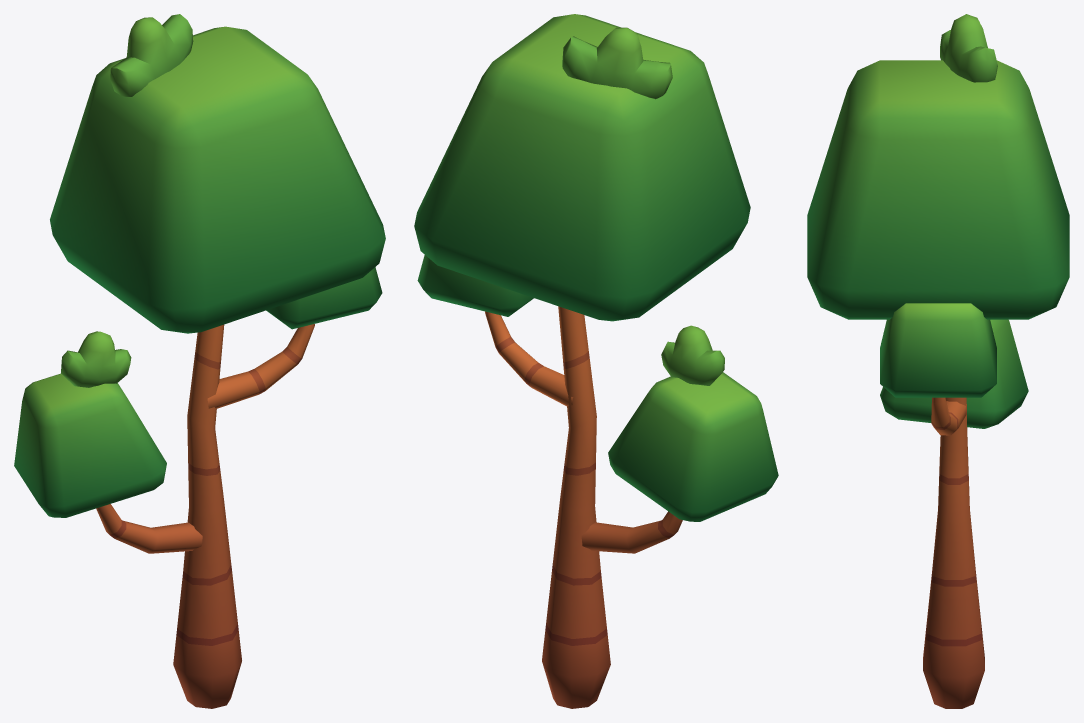
Rendered from large_tree_green.glb.
The picture shows the model from 3 angles, left to right: view 1: azimuth 30°, elevation 25°; view 2: azimuth 150°, elevation 25°; view 3: azimuth 270°, elevation 25°; orthographic projection. The views are drawn at different scales.
Visible parts, largest first — view 1: Tree_6_B_Color1; view 2: Tree_6_B_Color1; view 3: Tree_6_B_Color1.
Boxes of the visible parts, x1=… form: Tree_6_B_Color1: x1=14, y1=14, x2=385, y2=708; Tree_6_B_Color1: x1=414, y1=14, x2=778, y2=708; Tree_6_B_Color1: x1=807, y1=14, x2=1069, y2=708.
Bounding box in the file's own units: 2.75 × 5.58 × 2.
Materials: 1 (1 with a texture image).
